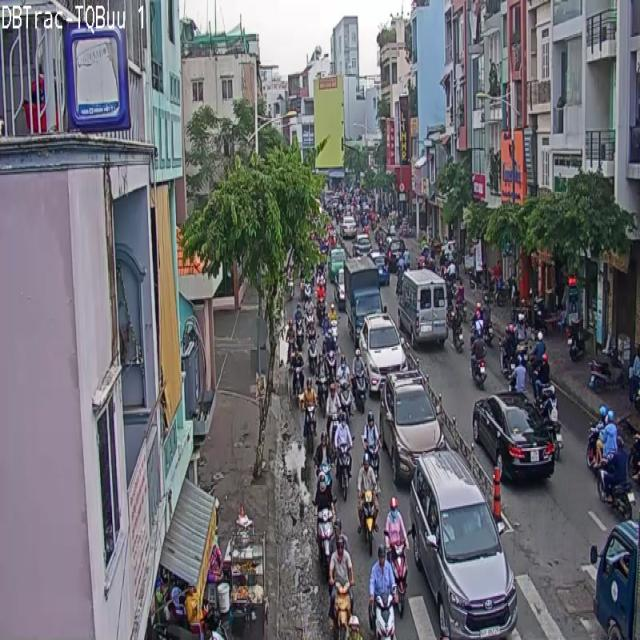car: (330, 521, 354, 639), (369, 546, 398, 639), (384, 498, 407, 614), (316, 472, 335, 575), (358, 455, 378, 519)
traffic-light: (410, 449, 516, 639), (472, 393, 556, 478), (381, 375, 443, 482), (360, 313, 406, 393)
